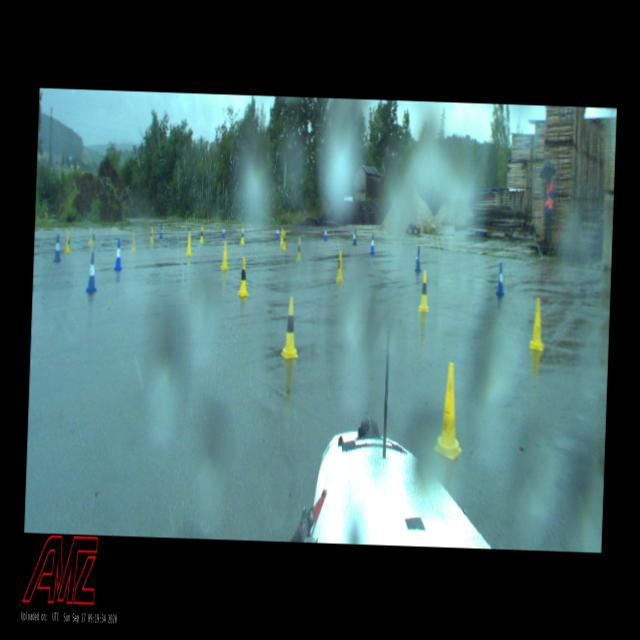blue_cone: (85, 252, 97, 292), (494, 264, 506, 296), (53, 234, 62, 261), (114, 239, 122, 269), (414, 246, 422, 272), (369, 233, 375, 254), (352, 228, 357, 245), (159, 224, 163, 238), (221, 224, 225, 238), (276, 226, 280, 239), (323, 227, 327, 240)
yellow_cone: (434, 361, 464, 459), (280, 296, 300, 358), (528, 296, 544, 351), (237, 258, 250, 296), (418, 270, 430, 310), (336, 250, 344, 281), (220, 240, 228, 270), (185, 232, 192, 255), (64, 231, 71, 253), (296, 236, 302, 261), (130, 230, 136, 252), (281, 231, 287, 251), (88, 227, 94, 245), (198, 226, 204, 242), (240, 226, 245, 244), (149, 226, 154, 242), (280, 228, 284, 245)
